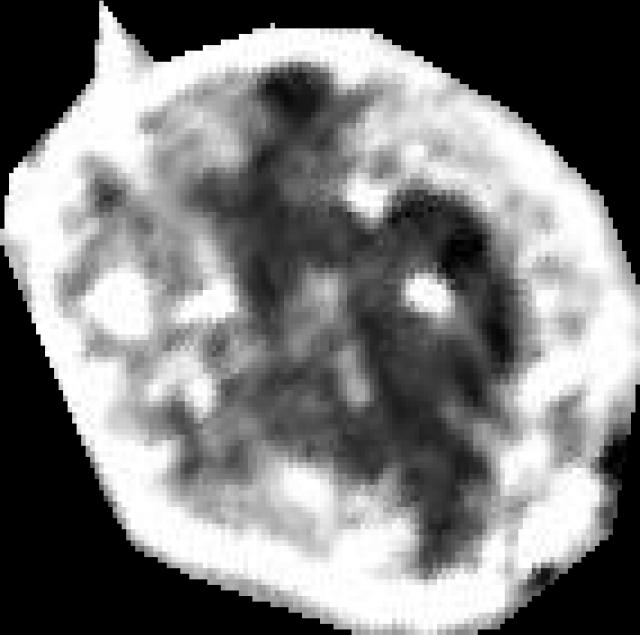tumor_good_chance: (0, 1, 640, 635)
